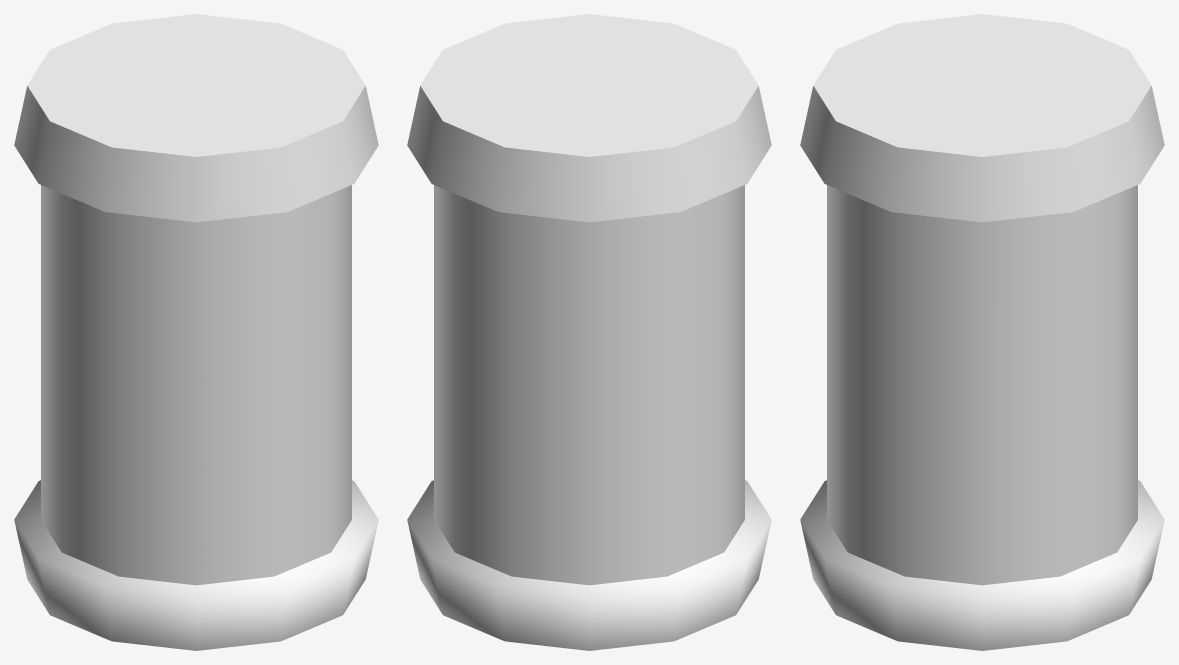
Rendered from drumtong.FBX.
The picture shows the model from 3 angles, left to right: view 1: azimuth 30°, elevation 25°; view 2: azimuth 150°, elevation 25°; view 3: azimuth 270°, elevation 25°; orthographic projection.
Visible parts, largest first — view 1: Object024; view 2: Object024; view 3: Object024.
Part boxes in pixels (x1,y1,x2,y2): Object024: [14, 14, 378, 650]; Object024: [407, 14, 771, 650]; Object024: [800, 14, 1164, 650].
Bounding box in the file's own units: 104 × 104 × 155.
1 material, 1 textured.
